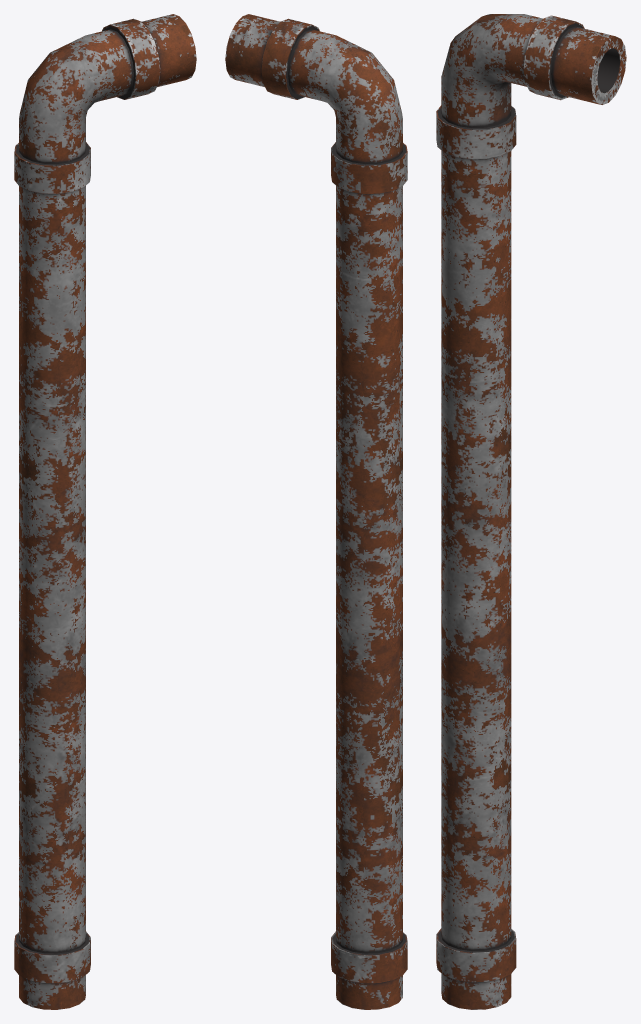
Rendered from Rusty_pipe.glb.
The picture shows the model from 3 angles, left to right: view 1: azimuth 30°, elevation 25°; view 2: azimuth 150°, elevation 25°; view 3: azimuth 330°, elevation 25°; orthographic projection. The views are drawn at different scales.
Parts seen in each view (by area): view 1: Rusty_pipe; view 2: Rusty_pipe; view 3: Rusty_pipe.
Boxes of the visible parts, x1,y1,x2,y2 form: Rusty_pipe: (14, 14, 196, 1009); Rusty_pipe: (225, 14, 407, 1009); Rusty_pipe: (436, 14, 626, 1009).
Size of the model in its own units: 0.0955 by 0.5414 by 0.0398.
1 material, 1 textured.
